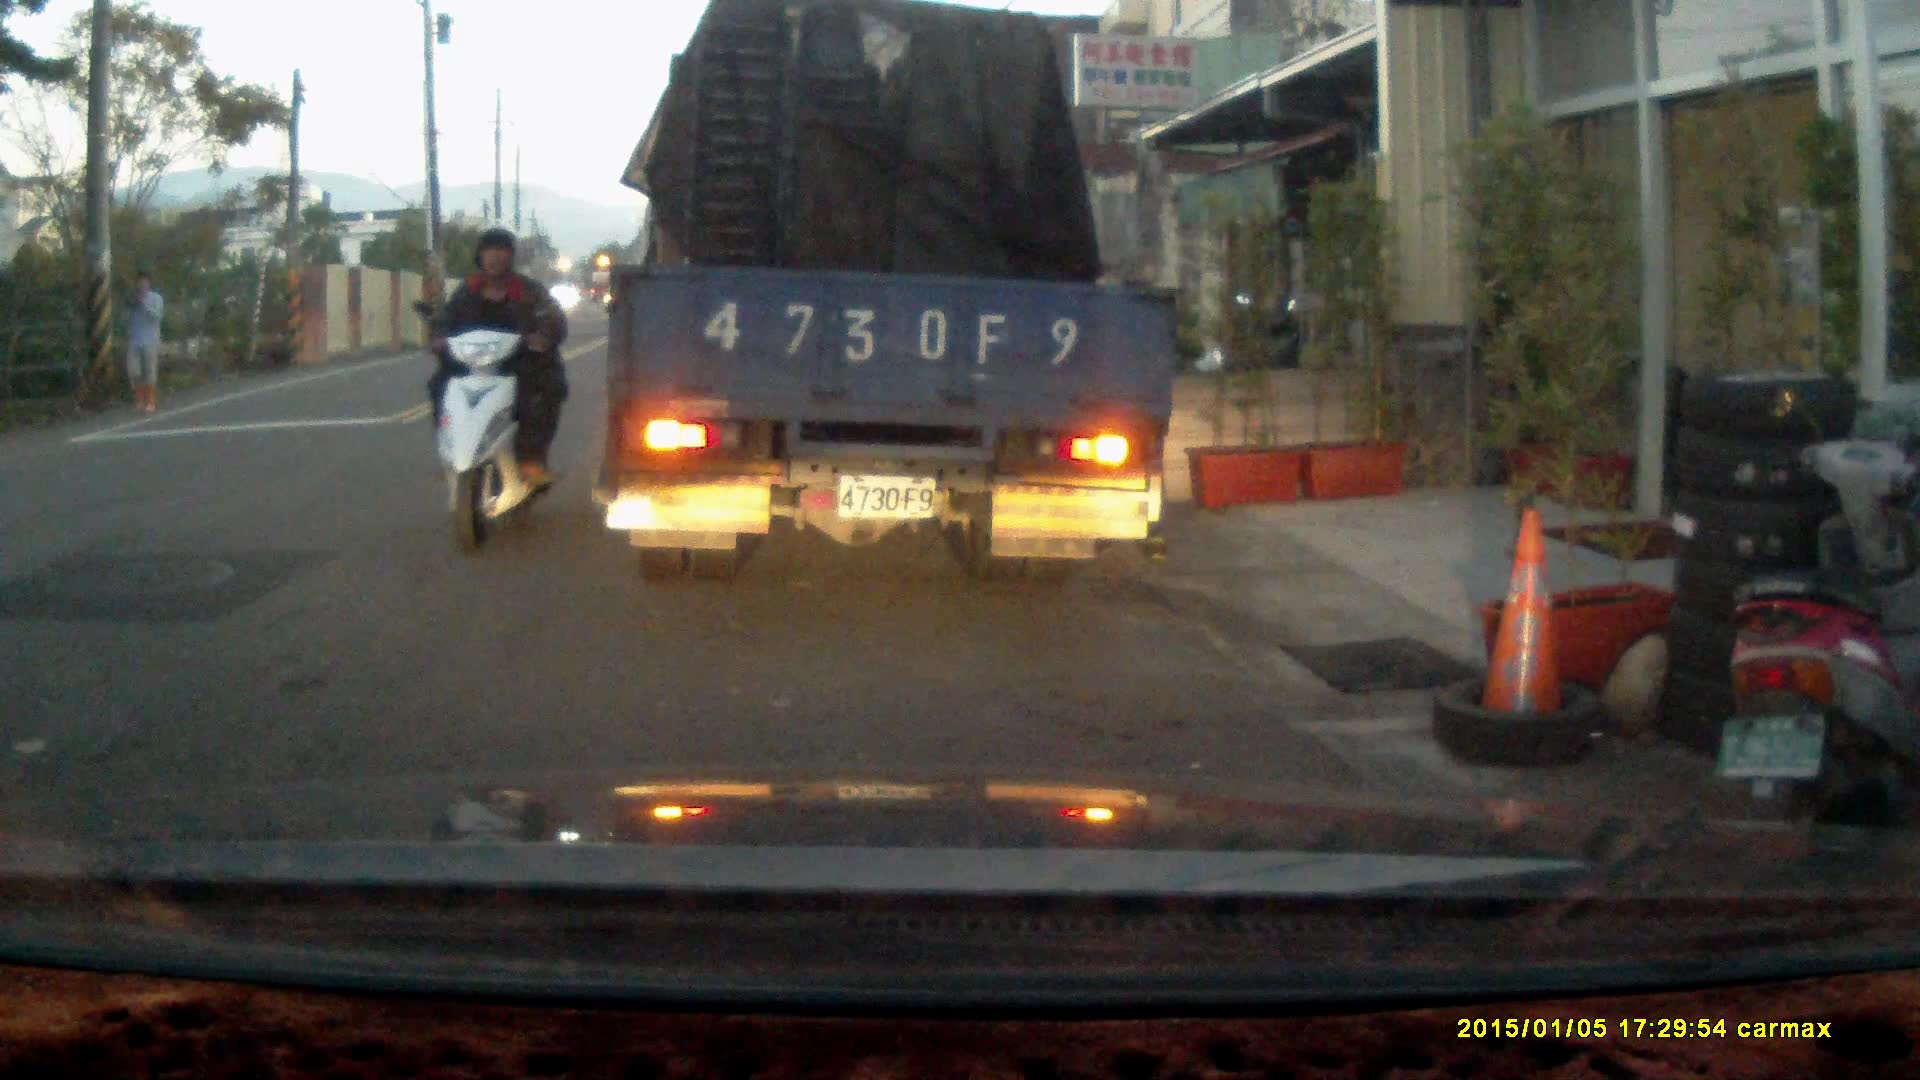pedestrian: (116, 272, 167, 419)
rider: (411, 219, 570, 554)
vehicle: (603, 23, 1188, 572)
